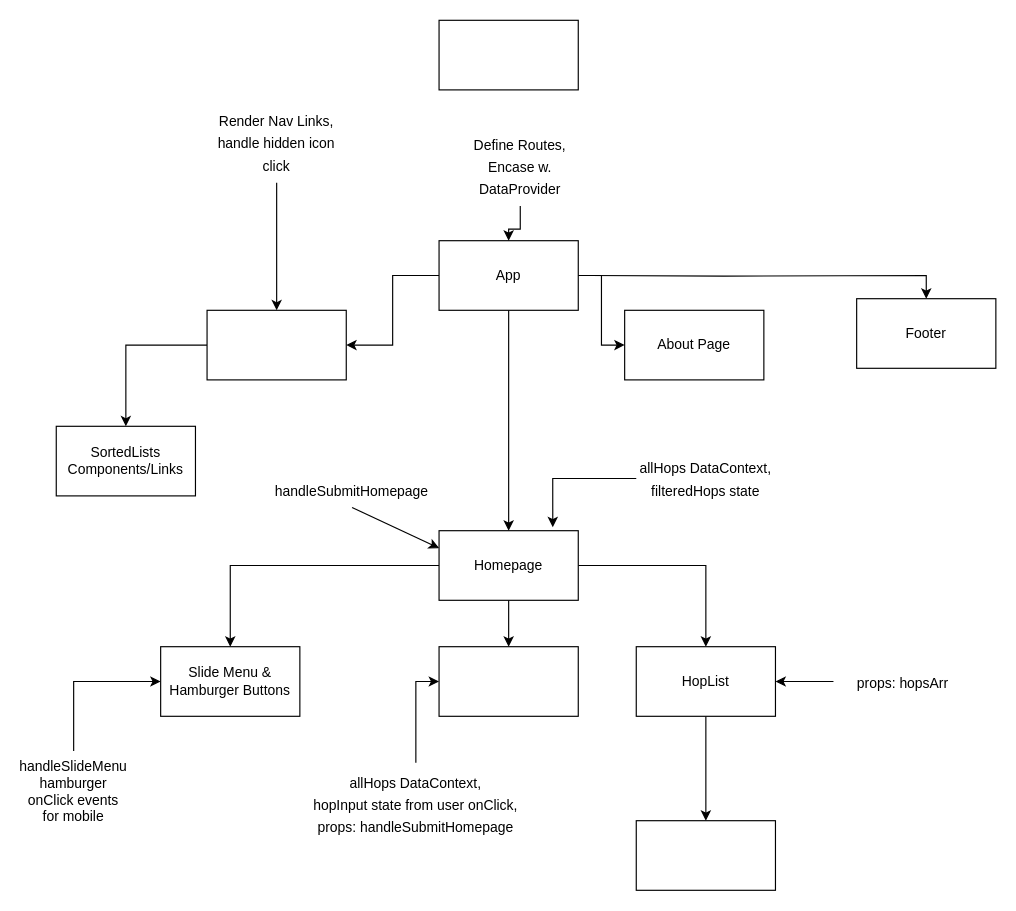
Some shapes in this 1016 by 911 pixel diagram are drawn without their labels. Here are the shapes that lost their labels. From the top down, the centre of each, then its label:
At point 508,54: "allHops - DataContext (Global)".
At point 276,344: "Header".
At point 508,681: "SearchBar".
At point 705,855: "HopDetails".
